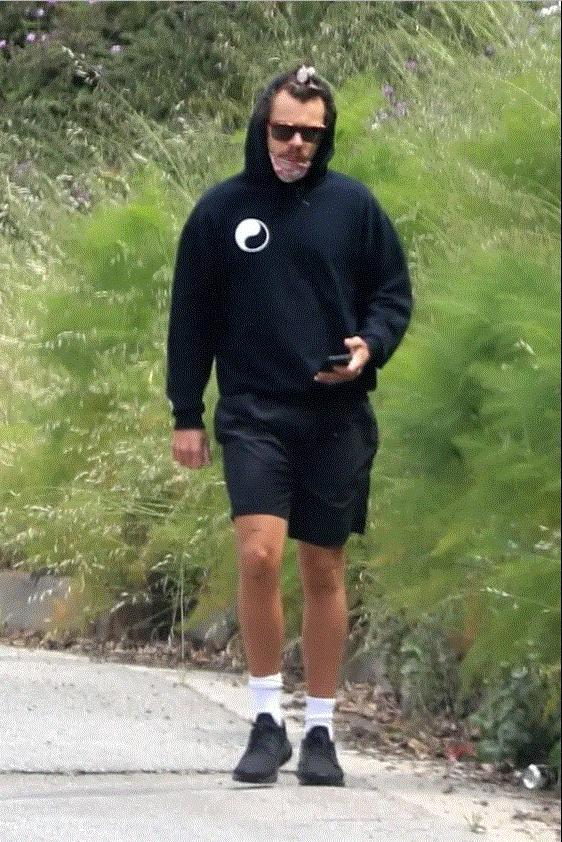mask_weared_incorrect: (266, 111, 323, 176)
